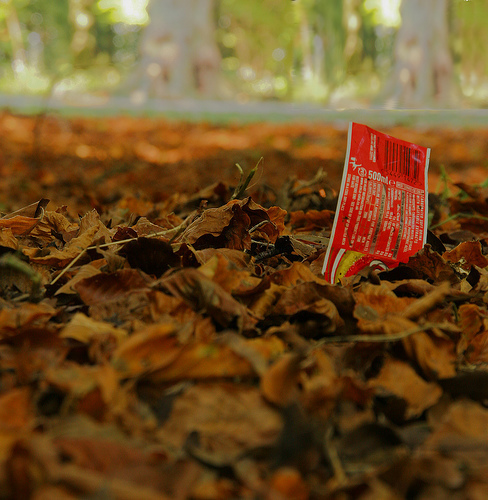litter: (321, 122, 431, 284)
